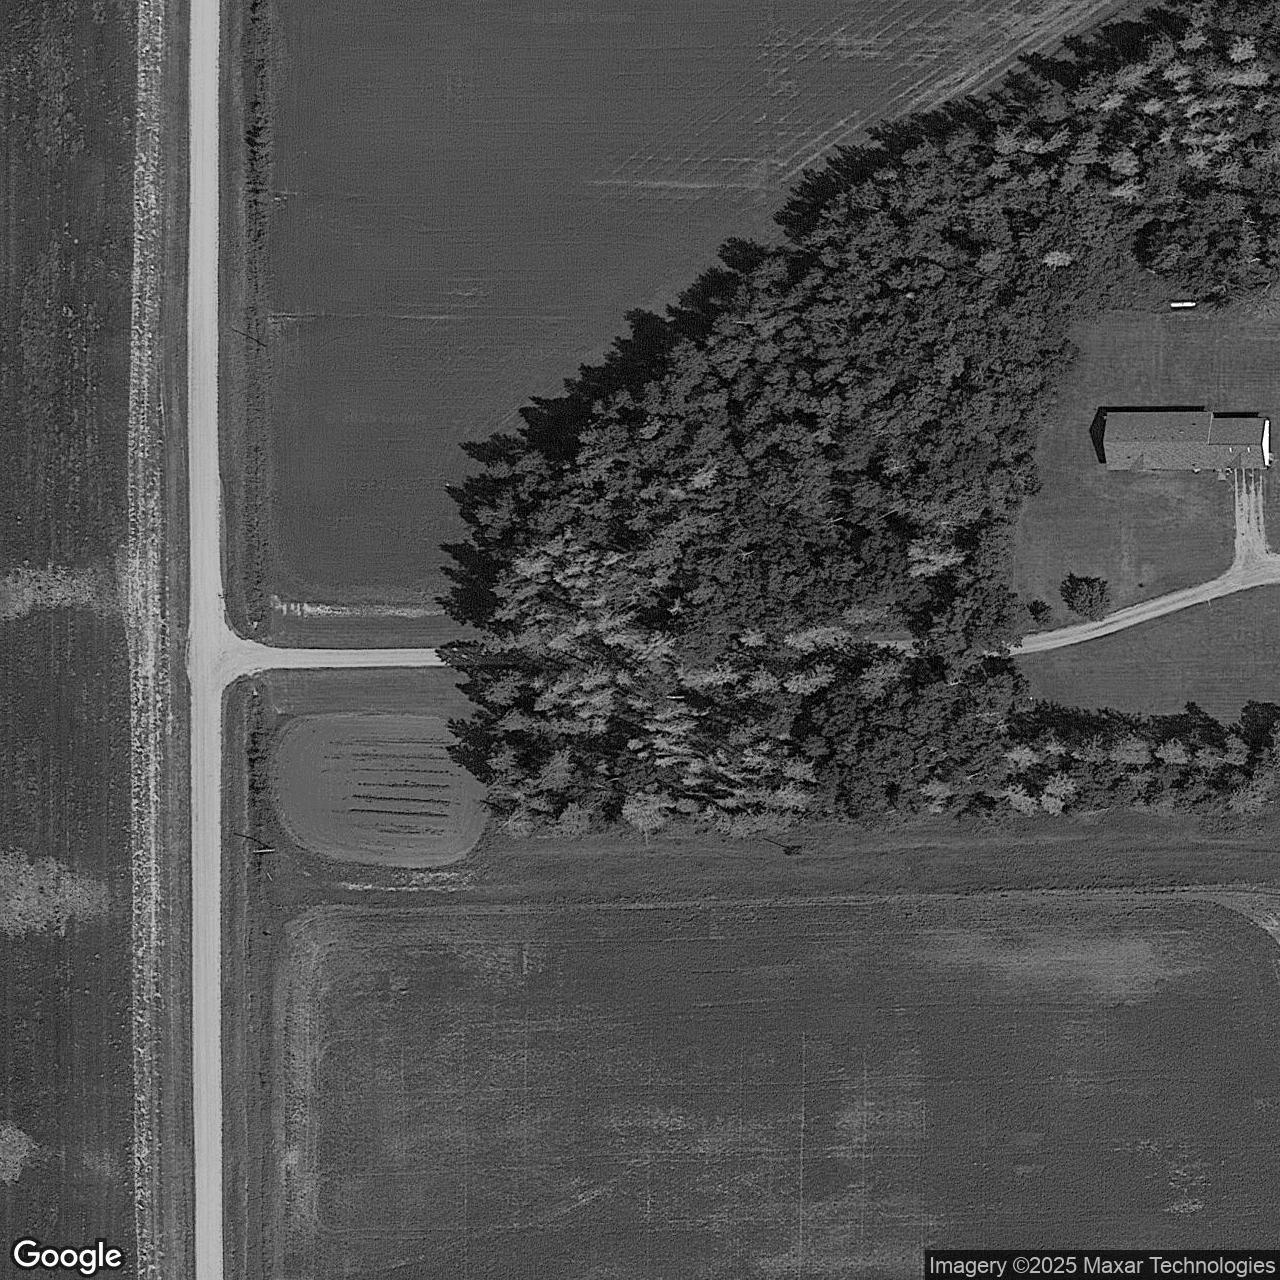House: (1103, 410, 1269, 470)
Propane: (1170, 300, 1198, 311)
